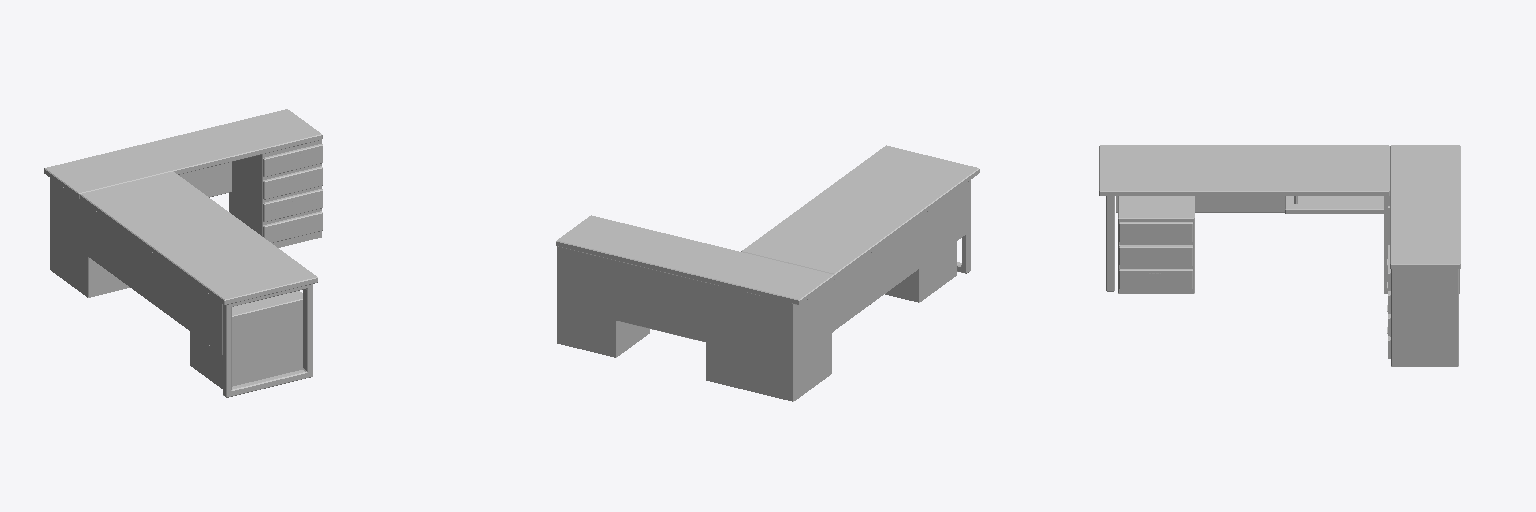
File: 办公桌镜像.obj
The picture shows the model from 3 angles: view 1: azimuth 30°, elevation 25°; view 2: azimuth 150°, elevation 25°; view 3: azimuth 270°, elevation 25°; orthographic projection.
Parts seen in each view (by area): view 1: Box1740, Rectangle005; view 2: Box1740, Rectangle005; view 3: Box1740, Rectangle005.
Part boxes in pixels (x1,y1,x2,y2): Box1740: (44, 109, 322, 388); Rectangle005: (223, 284, 312, 397); Box1740: (556, 145, 979, 401); Rectangle005: (957, 180, 970, 273); Box1740: (1099, 145, 1460, 366); Rectangle005: (1106, 196, 1114, 291).
Size of the model in its own units: 209 by 84.53 by 268.